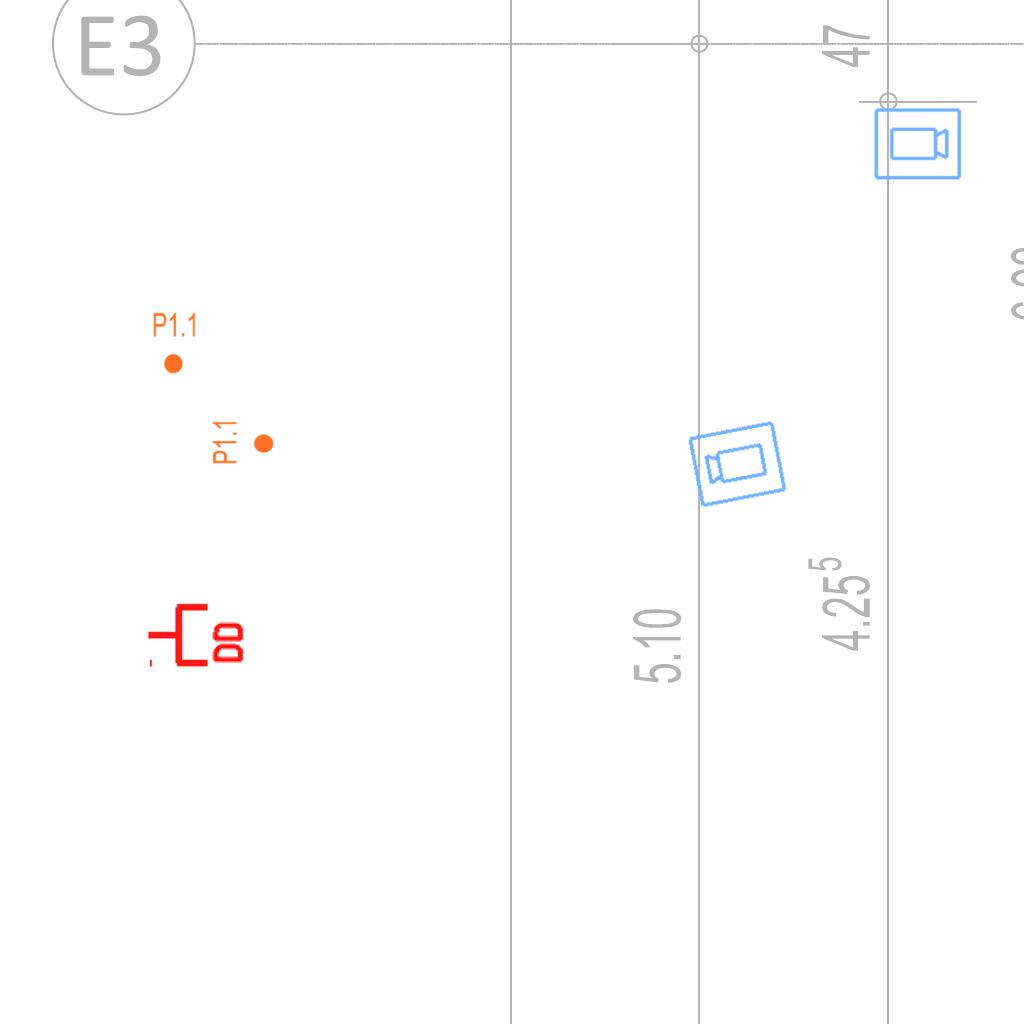Datenanschluss_zweifach: (145, 599, 248, 668)
Downlight_LED_Einbauleuchten_Flur: (152, 311, 198, 375), (211, 419, 275, 465)
KFO_Kamera_mit_Festobjektiv: (685, 417, 790, 510), (872, 106, 963, 183)
